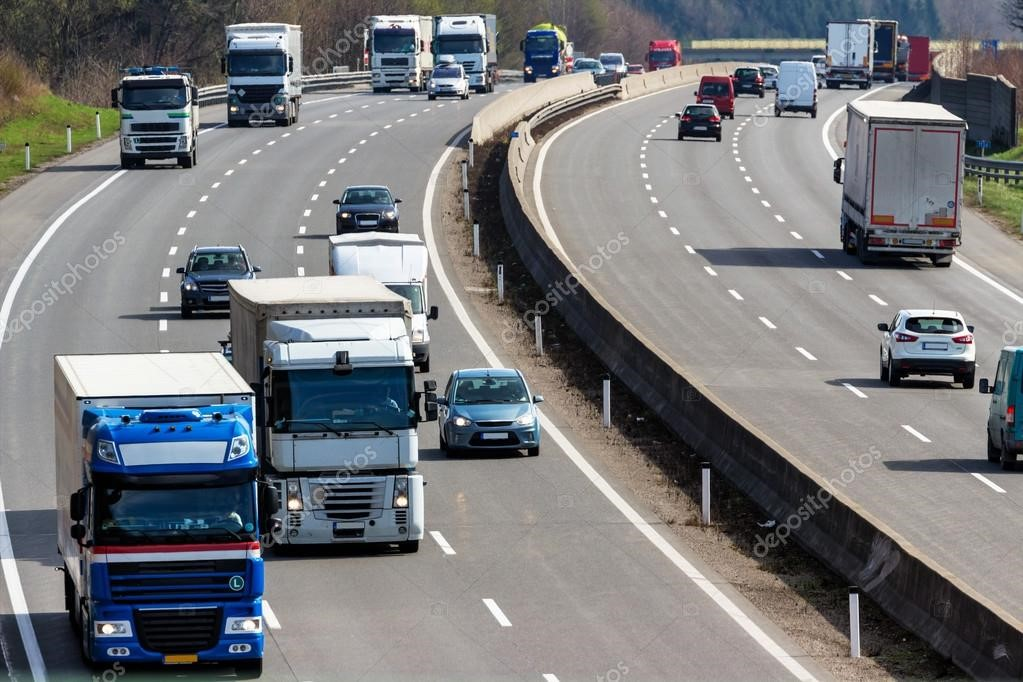HeavyVehicle: (52, 352, 269, 675), (837, 100, 967, 270), (116, 65, 200, 172), (223, 18, 300, 130)
LightVehicle: (434, 367, 547, 460), (878, 308, 978, 389), (336, 182, 402, 232), (678, 102, 724, 140)
